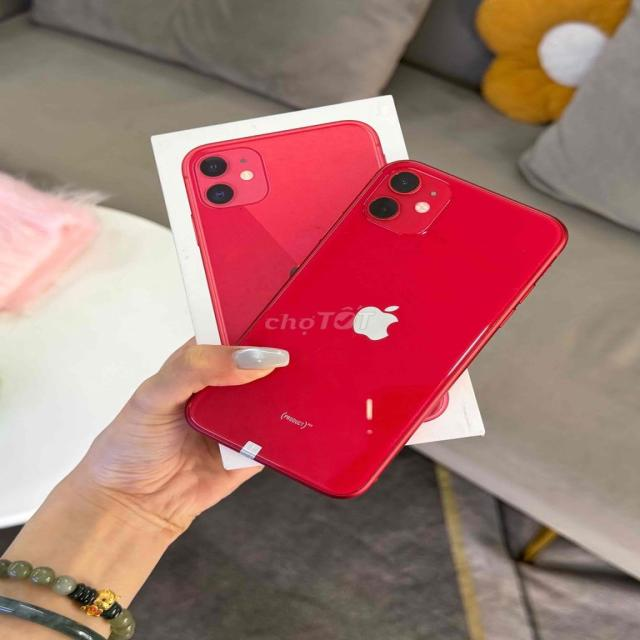gen_11: (180, 153, 570, 500)
